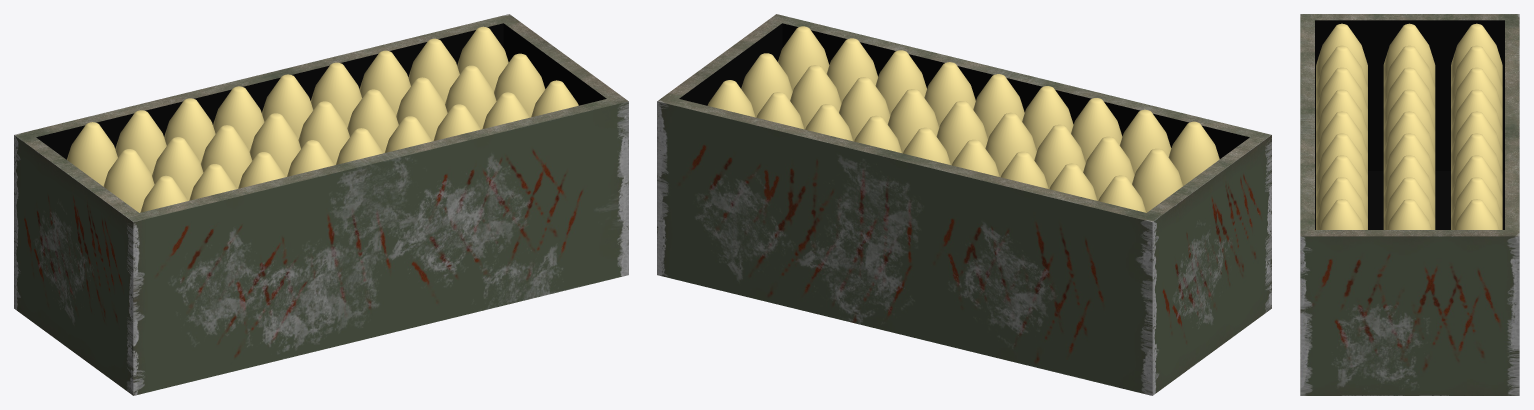
The model's file is kursun_paket_sub.fbx.
3 renders of one model, left to right at view 1: azimuth 30°, elevation 25°; view 2: azimuth 150°, elevation 25°; view 3: azimuth 270°, elevation 25°, orthographic. The views are drawn at different scales.
Parts seen in each view (by area): view 1: Plane.001, Plane; view 2: Plane.001, Plane; view 3: Plane.001, Plane.
Part boxes in pixels (box(x1,y1,x2,y2)): Plane.001: box(14, 14, 628, 395); Plane: box(67, 26, 578, 212); Plane.001: box(657, 14, 1271, 395); Plane: box(707, 26, 1219, 212); Plane.001: box(1300, 14, 1519, 395); Plane: box(1316, 23, 1502, 229).
Bounding box in the file's own units: 113 × 41.05 × 47.18.
Materials: 3 (2 with a texture image).
